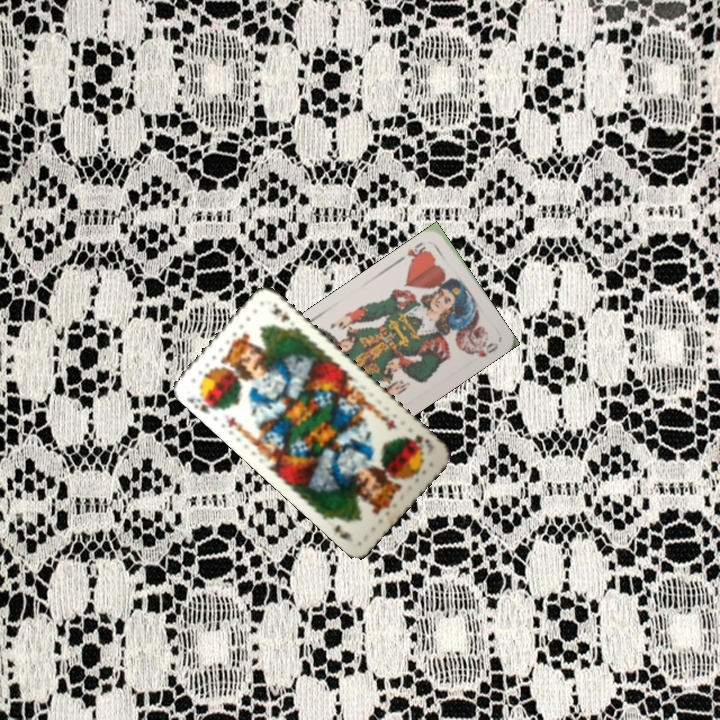HO: (403, 238, 432, 268)
SK: (184, 393, 220, 416), (403, 430, 436, 452)
